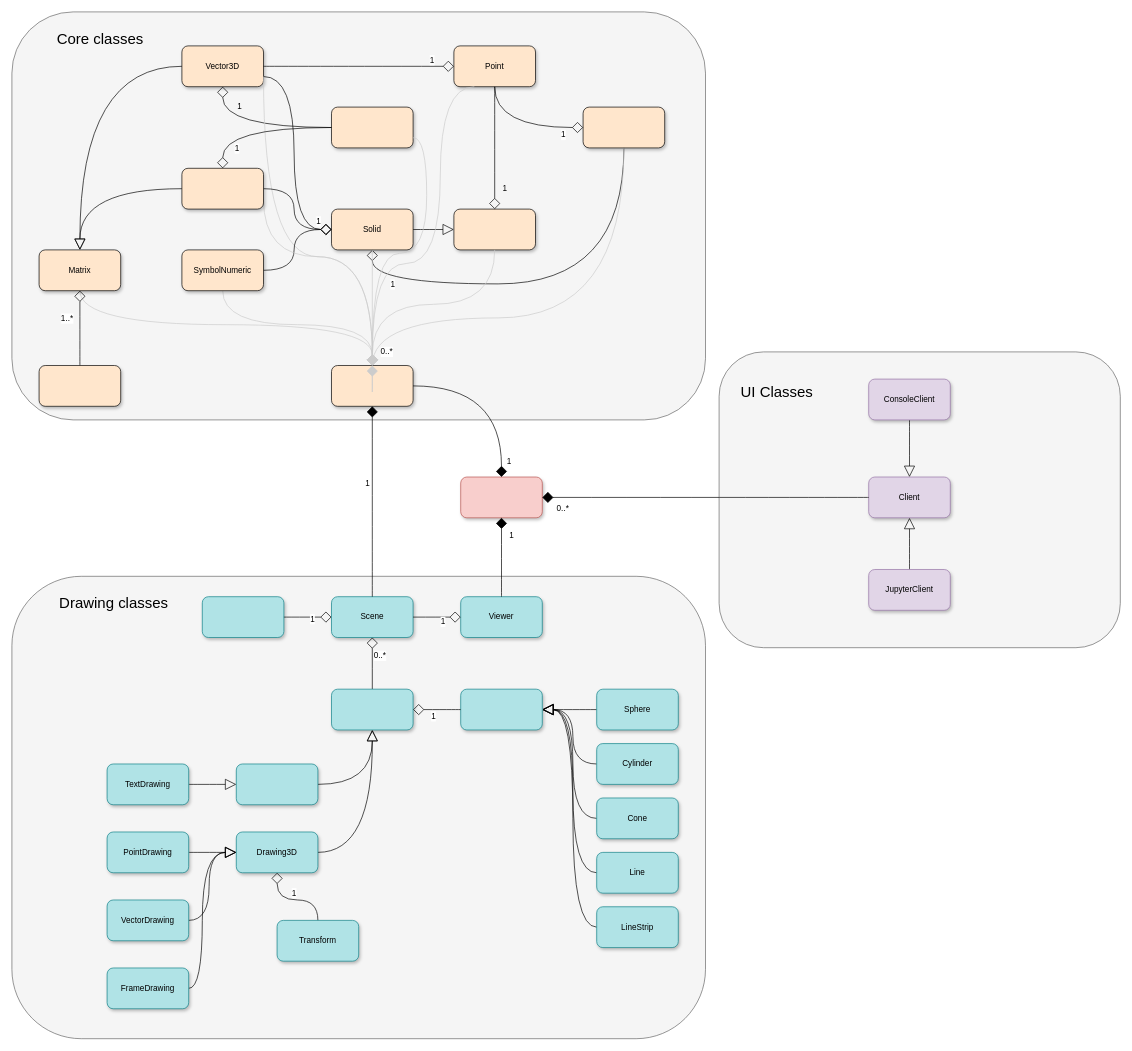
Image size: 1132x1051. Some labels were removed from this diagram. The shapes that lost their labels are listed below. From the top down, each one's centre as x and y in pixels, then its label:
(372,128): Base
(624,128): Wrench3D
(223,189): Tensor3D
(495,230): Frame
(80,386): Expr
(372,386): System
(501,498): Controller
(243,617): Simulation
(372,710): Drawing
(501,710): Geometry
(277,785): Drawing2D
